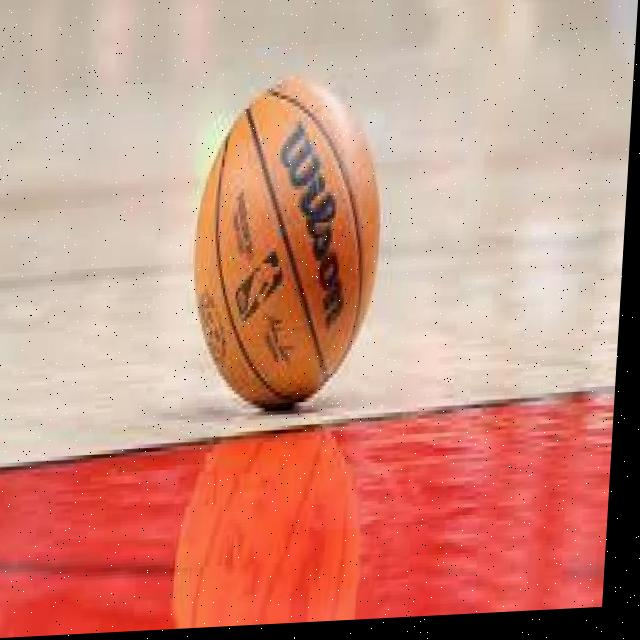Basketball: (183, 75, 392, 414)
